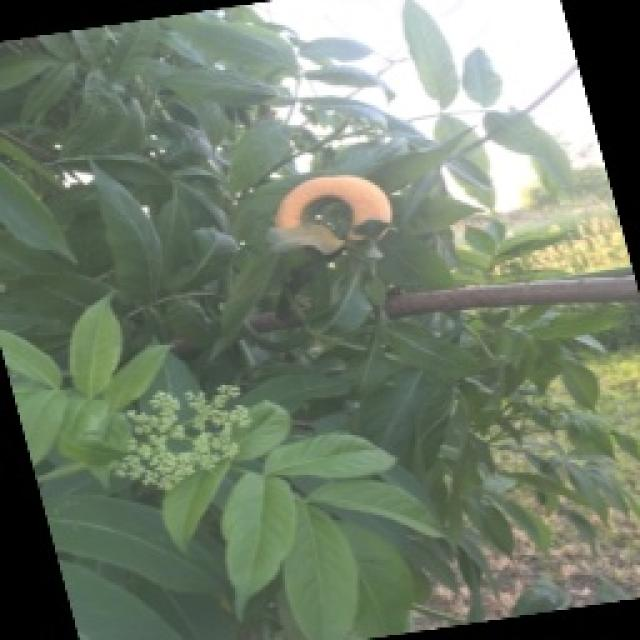Elderberry_rust: (255, 157, 403, 245)
